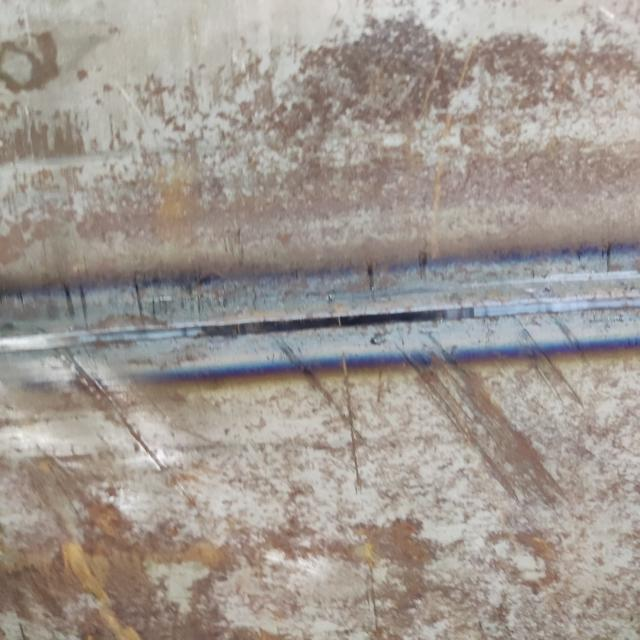seam: (0, 231, 640, 406)
